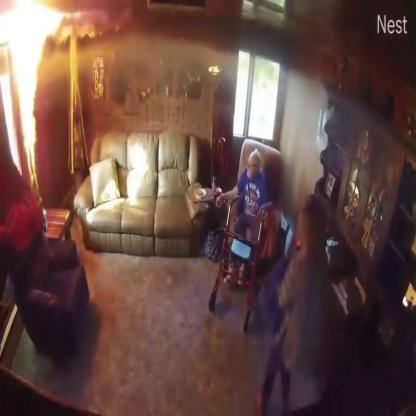fire: (5, 3, 35, 190), (0, 4, 96, 50)
